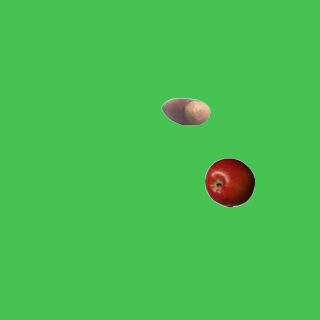Apple Braeburn: (204, 157, 254, 207)
Hazelnut: (160, 86, 210, 136)
